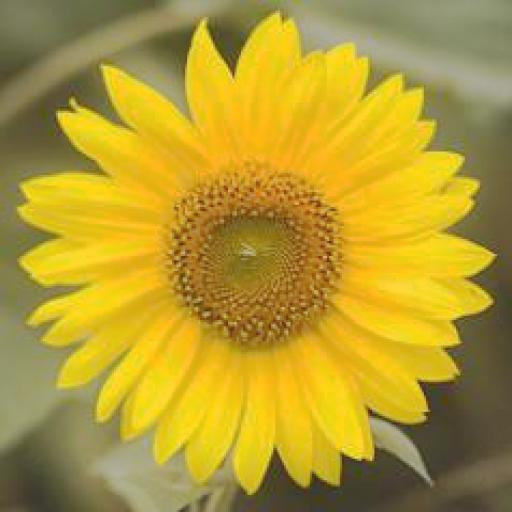sunflower: (17, 6, 495, 493)
